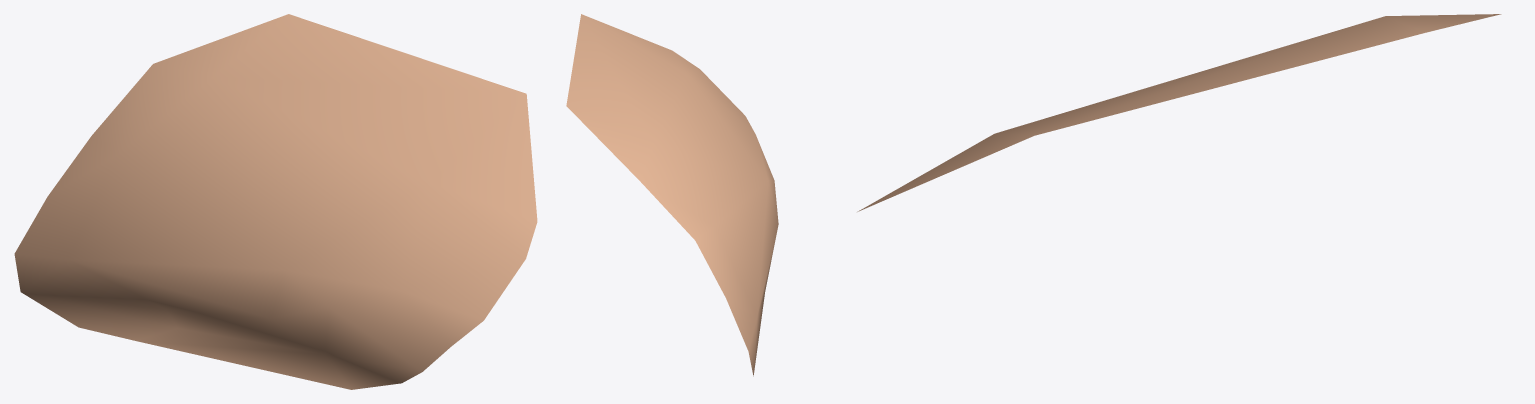
Rendered from apex-of-auricle-r.glb.
3 views of the same model, side by side, from view 1: azimuth 30°, elevation 25°; view 2: azimuth 150°, elevation 25°; view 3: azimuth 270°, elevation 25° (orthographic). The views are drawn at different scales.
Visible parts, largest first — view 1: Apex of auricle.r; view 2: Apex of auricle.r; view 3: Apex of auricle.r.
Boxes of the visible parts, x1,y1,x2,y2 form: Apex of auricle.r: (14, 14, 537, 389); Apex of auricle.r: (566, 14, 778, 376); Apex of auricle.r: (857, 14, 1501, 211).
Bounding box in the file's own units: 0.00488 × 0.0038 × 0.00557.
